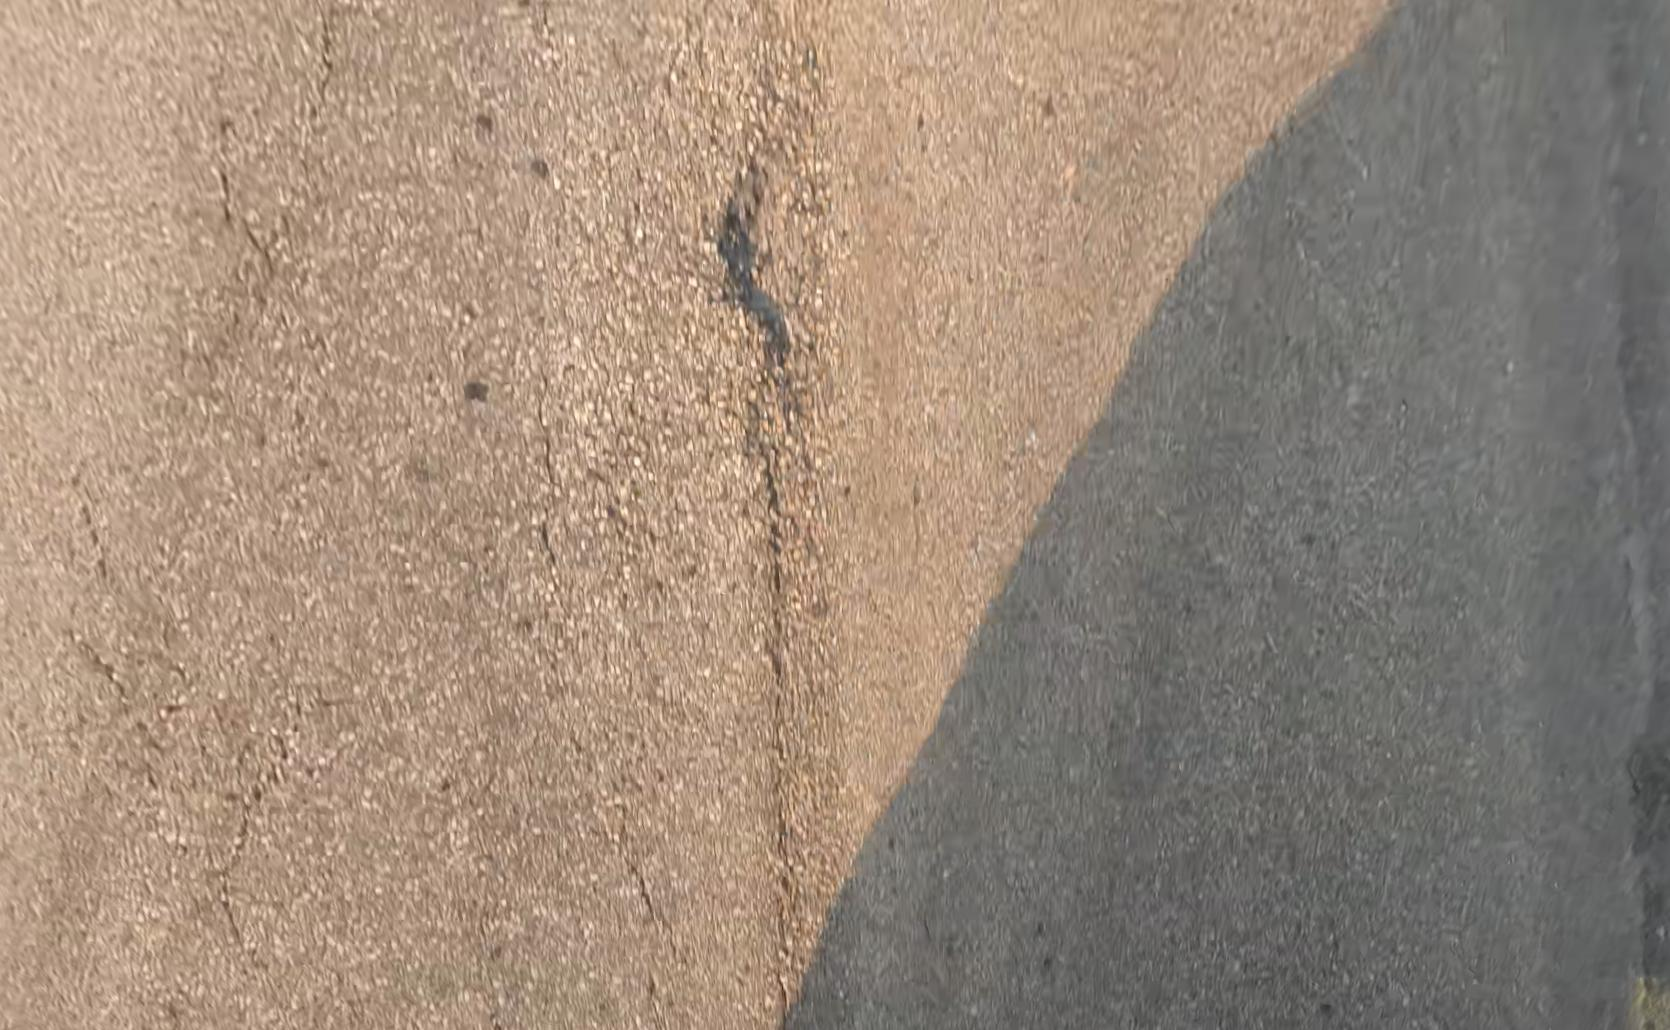pothole: (730, 153, 846, 357)
